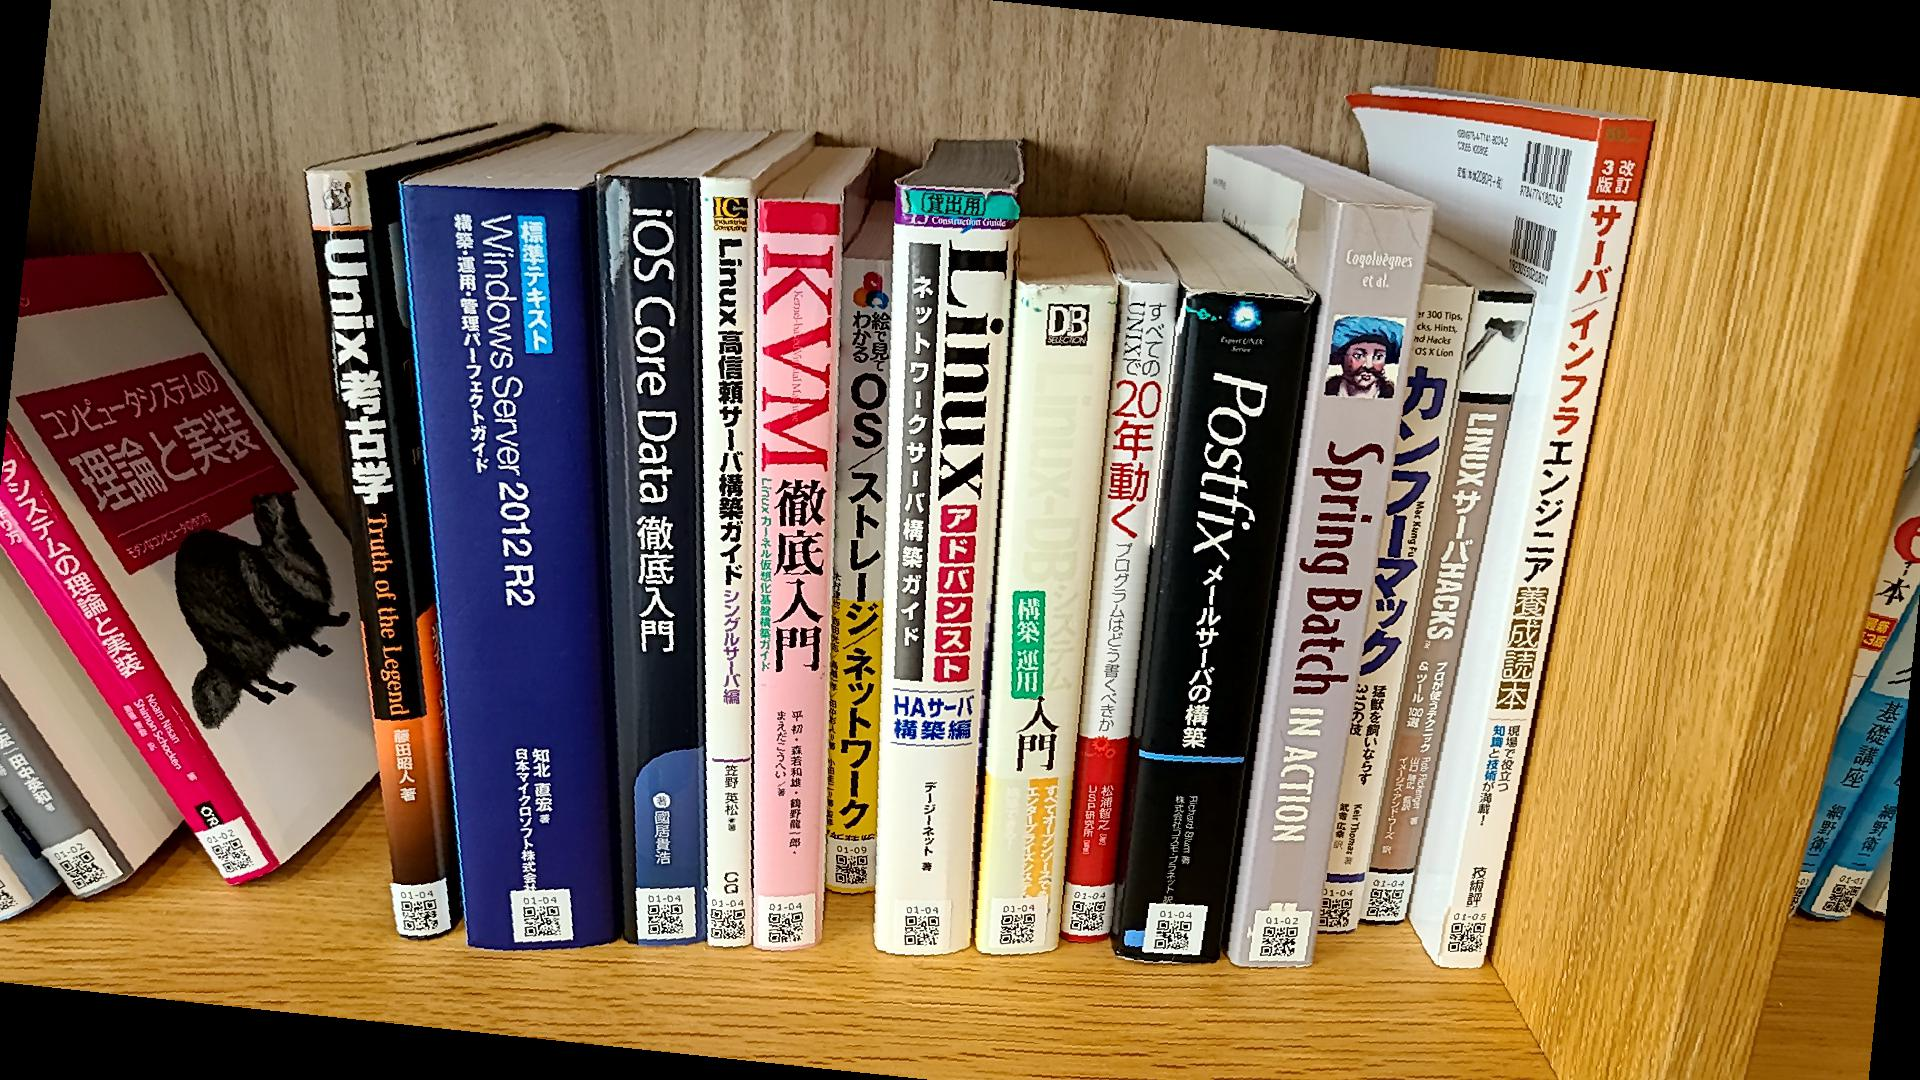book: (591, 161, 708, 951), (884, 175, 1001, 961), (750, 187, 836, 967), (694, 167, 760, 957), (825, 251, 890, 891)
